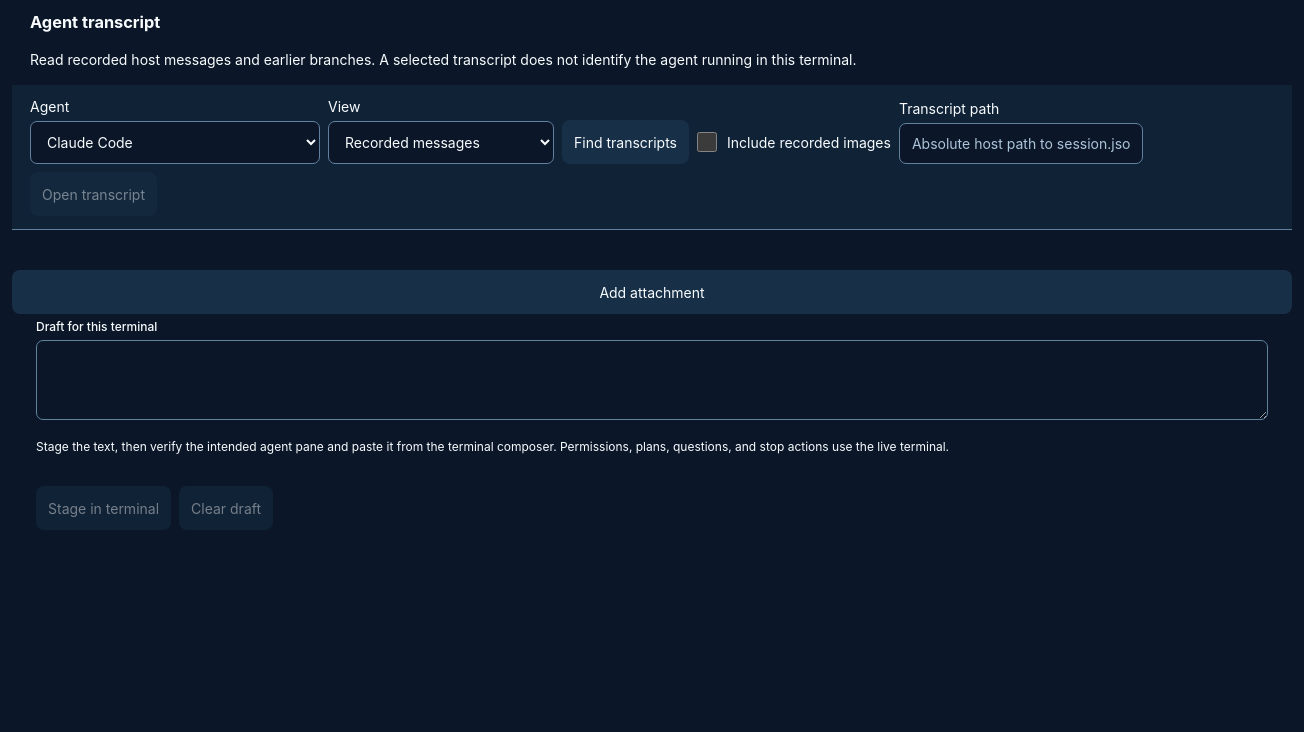
Test case: does not acquire a new access lease or display an old result after lock and unlock
The image size is (1304, 732).
Type "/host/claude.jsonl" into the field labelled "Transcript path" at (1021, 144), box [899,124,1143,164]
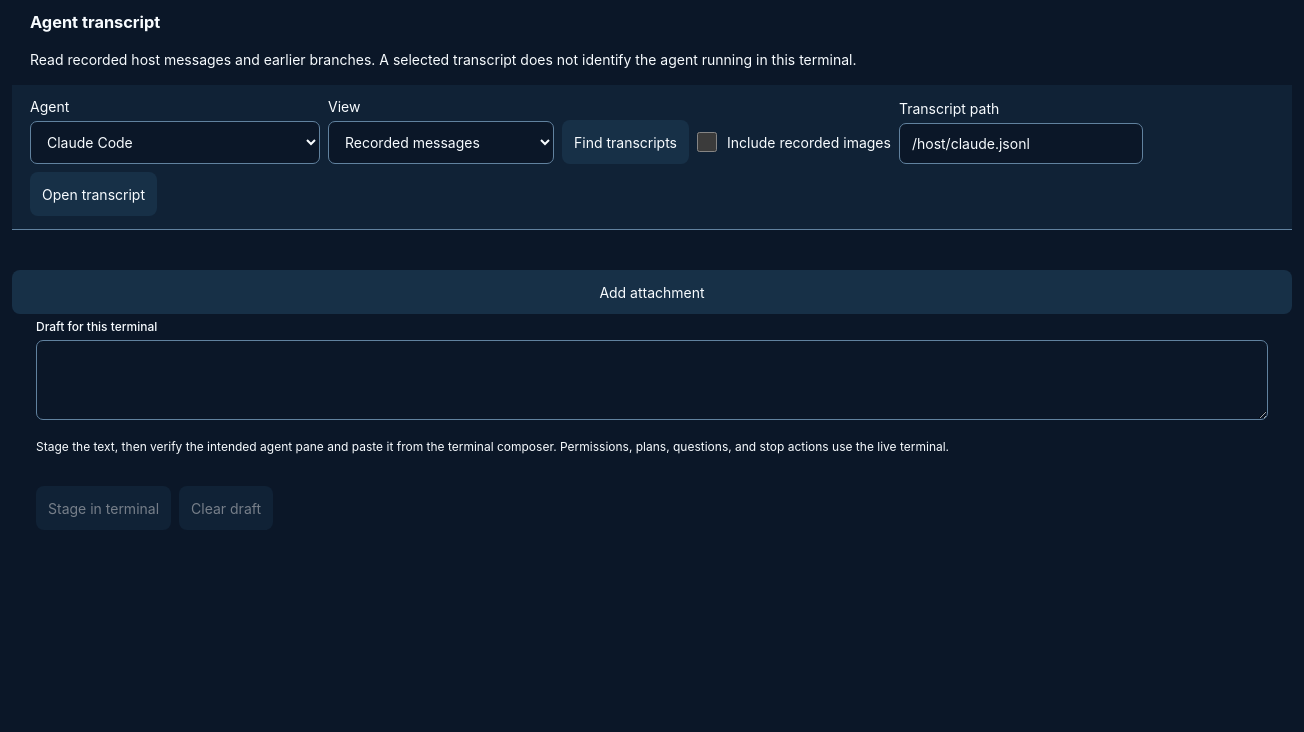
Select "Latest conversation branch" in the dropdown labelled "View" at (441, 143), box [328,122,554,164]
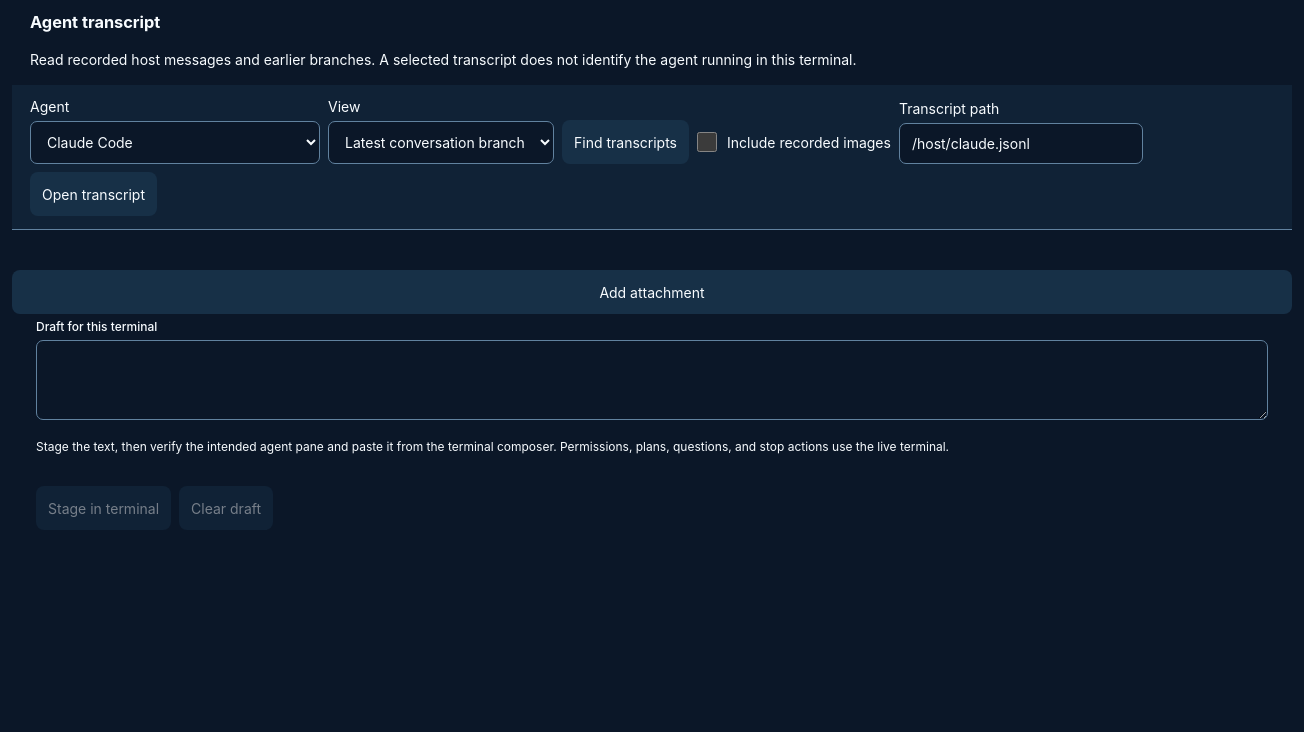
Click the button "Open transcript" at (94, 194), box [30,172,157,216]
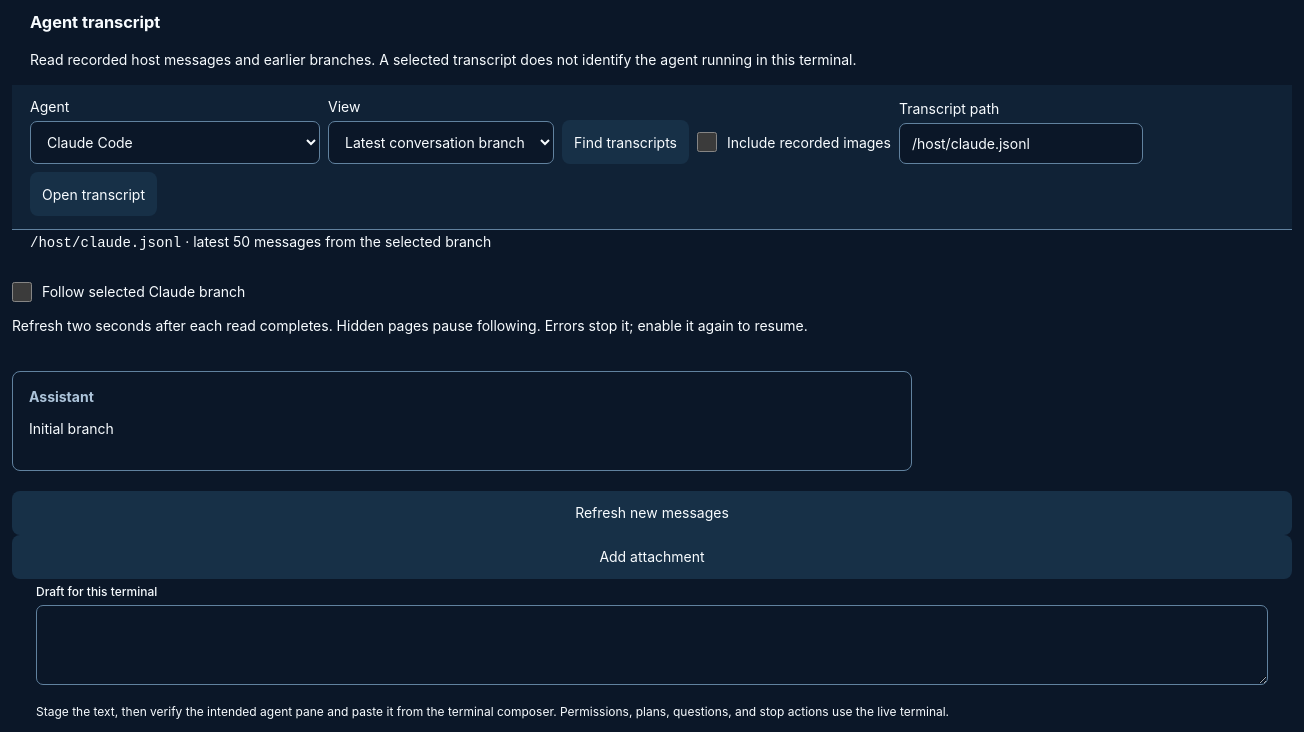
Click the checkbox labelled "Follow selected Claude branch" at (22, 292), box [12,282,32,302]
Wait 22000 ms
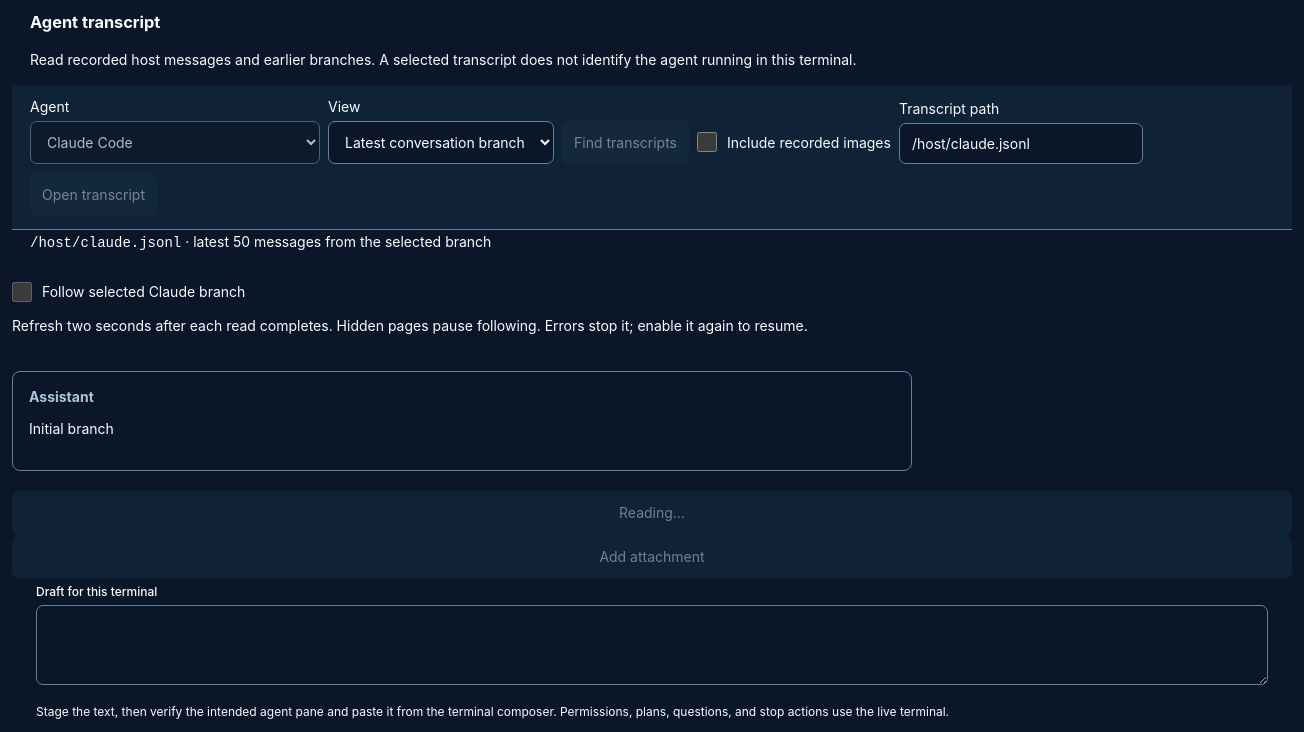
Now the checkbox labelled "Follow selected Claude branch" is not checked, box [12,282,32,302]
Now the checkbox labelled "Follow selected Claude branch" is disabled, box [12,282,32,302]
